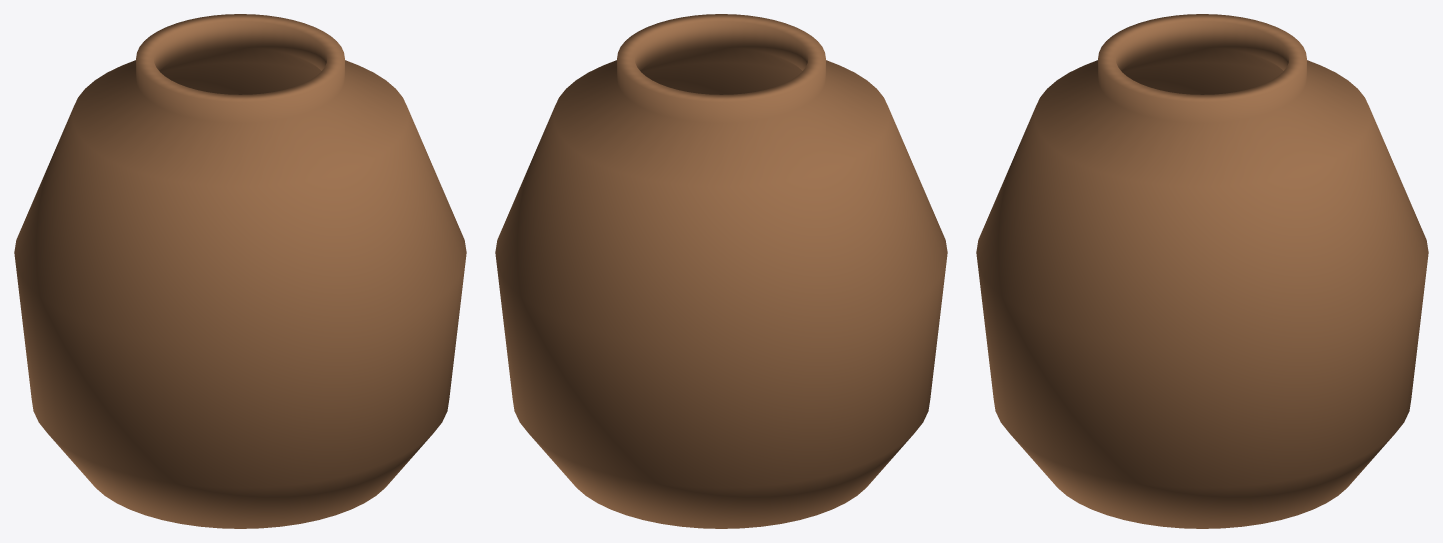
File: water-jar-ultra.glb
The picture shows the model from 3 angles, left to right: view 1: azimuth 30°, elevation 25°; view 2: azimuth 150°, elevation 25°; view 3: azimuth 270°, elevation 25°; orthographic projection.
Parts seen in each view (by area): view 1: water-jar; view 2: water-jar; view 3: water-jar.
Part boxes in pixels (x1,y1,x2,y2): water-jar: [14, 14, 466, 528]; water-jar: [495, 14, 947, 528]; water-jar: [976, 14, 1428, 528].
Size of the model in its own units: 0.78 by 0.77 by 0.78.
